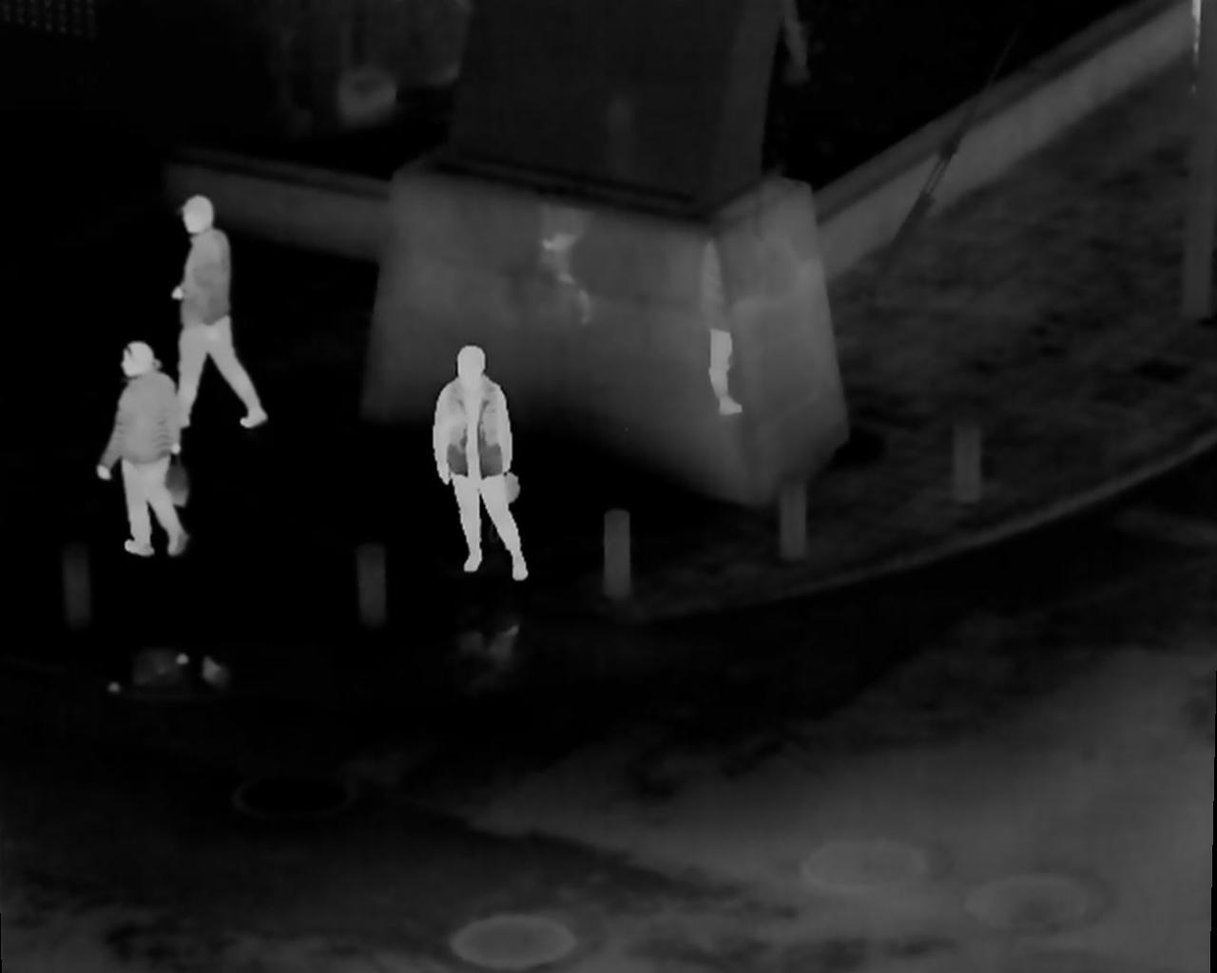person: (166, 196, 276, 437), (434, 350, 533, 581), (101, 343, 174, 553)
